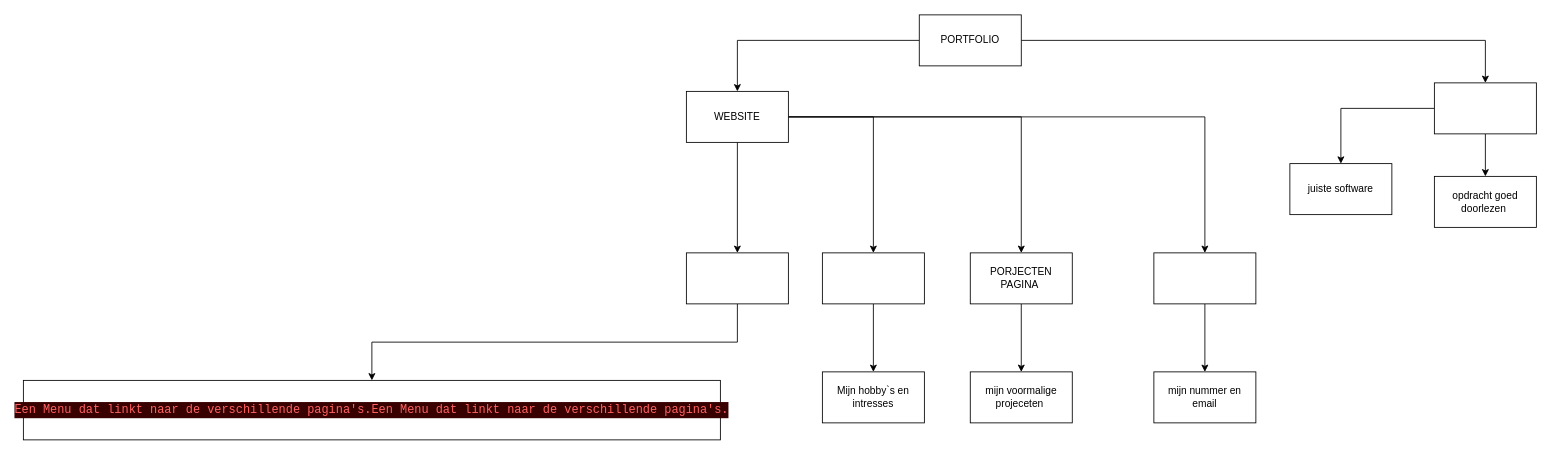
Some shapes in this 1551 by 455 pixel diagram are drawn without their labels. The shapes that lost their labels are listed below. From the top down, each one's centre as x and y in pixels, then its label:
pixel 1485 108: VOORBEREIDING
pixel 737 278: ABOUT PAGINA
pixel 873 278: INTRESSES
pixel 1204 278: CONTACT PAGINA
